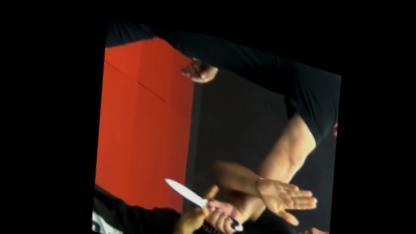knife: (153, 166, 247, 231)
